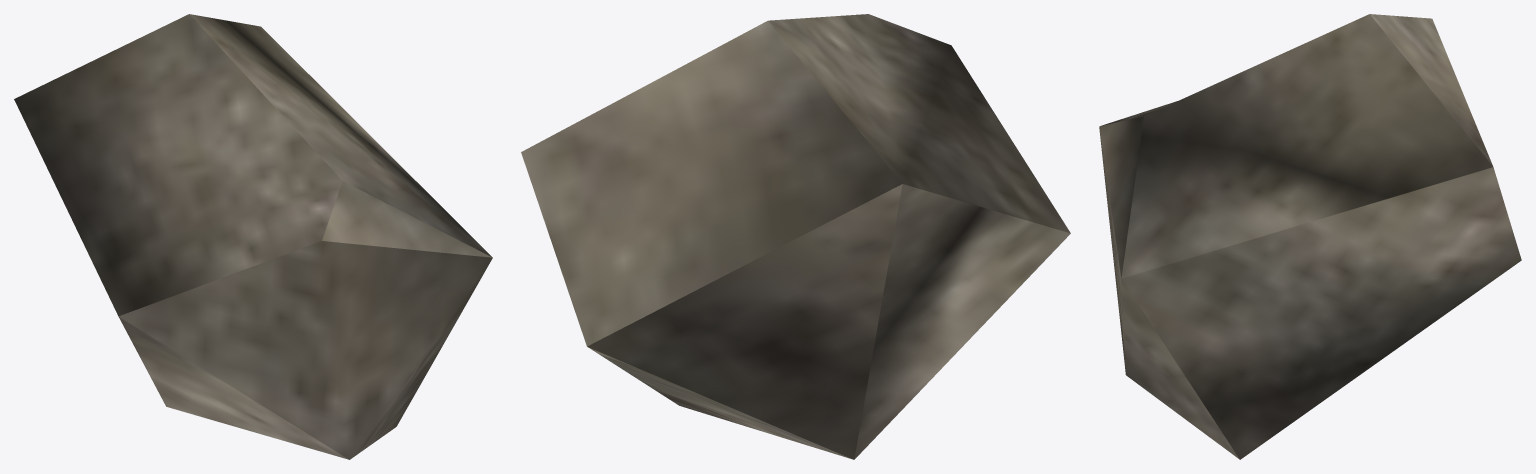
The model's file is rock_small_b2.glb.
3 views of the same model, side by side, from view 1: azimuth 30°, elevation 25°; view 2: azimuth 150°, elevation 25°; view 3: azimuth 270°, elevation 25° (orthographic). The views are drawn at different scales.
Visible parts, largest first — view 1: SM_Small_Rock_B2_LOD3; view 2: SM_Small_Rock_B2_LOD3; view 3: SM_Small_Rock_B2_LOD3.
Boxes of the visible parts, x1=… form: SM_Small_Rock_B2_LOD3: x1=14, y1=14, x2=492, y2=459; SM_Small_Rock_B2_LOD3: x1=521, y1=14, x2=1070, y2=459; SM_Small_Rock_B2_LOD3: x1=1099, y1=14, x2=1521, y2=459.
Size of the model in its own units: 0.6101 by 0.6956 by 0.7.
Materials: 1 (1 with a texture image).
